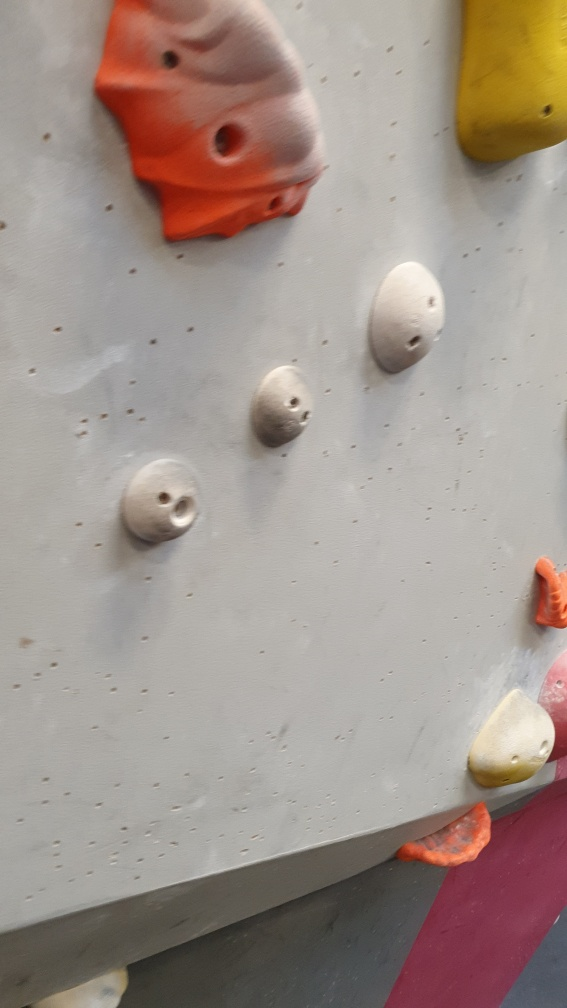Jug: (88, 1, 330, 251), (388, 798, 493, 872)
Sloper: (364, 252, 448, 376), (113, 454, 207, 548), (250, 361, 318, 454)
